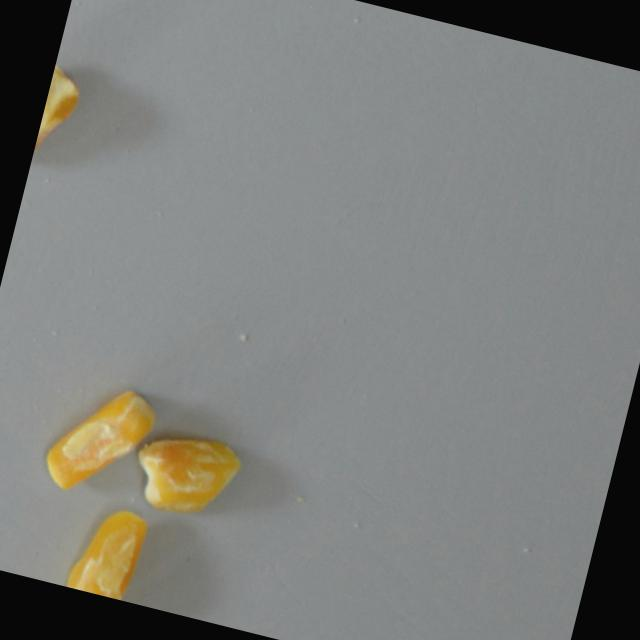dañado: (35, 369, 161, 508), (123, 419, 249, 527), (62, 496, 154, 603), (28, 61, 91, 178)
